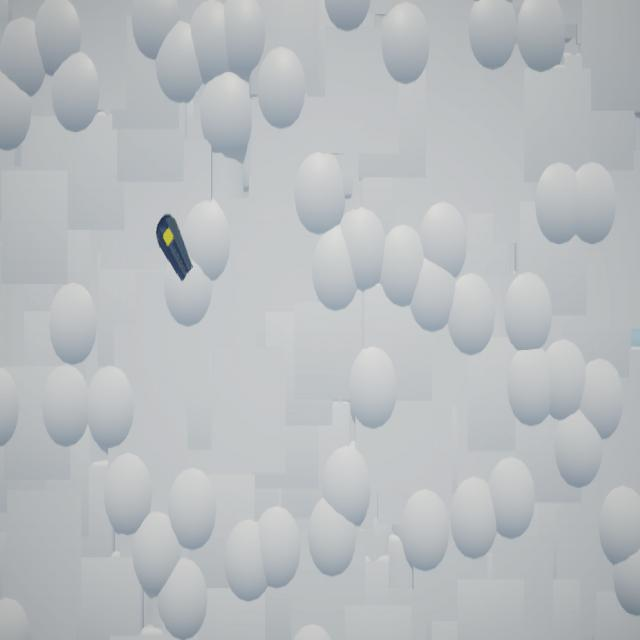handle_folk: (157, 214, 194, 283)
